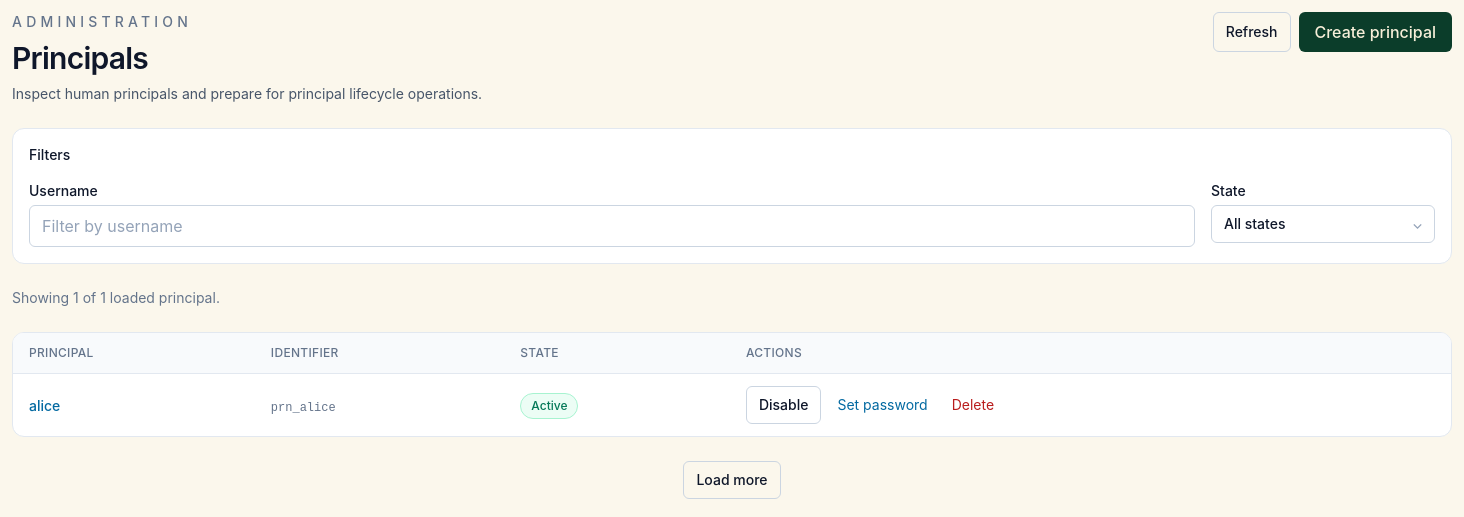
Scenario: loads additional pages
Expected: the link "alice" is shown, [29,397,60,414]
Click the button "Load more" at (732, 480), box [683,461,780,499]
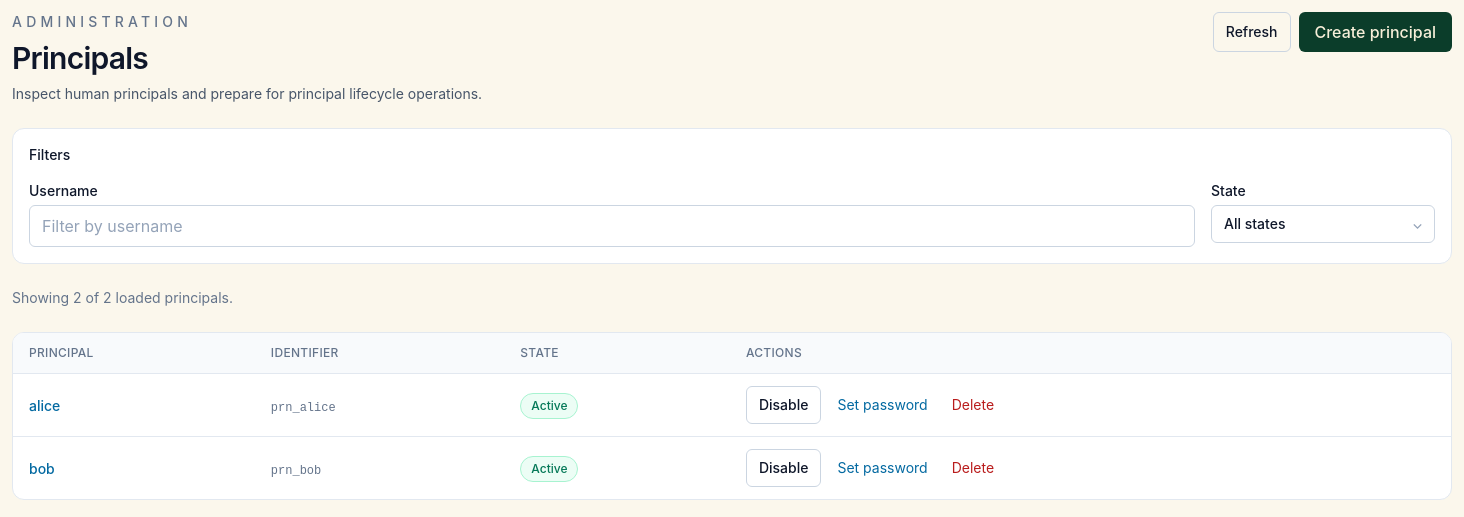
Result: the link "bob" is shown at [29,460,55,477]
